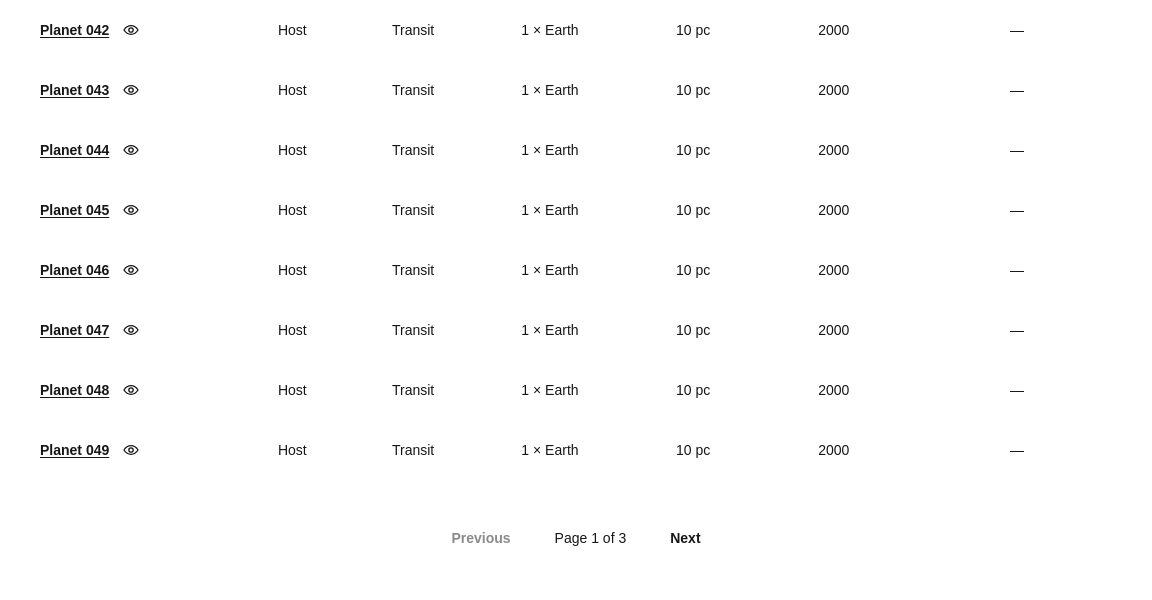
ExploreClient star type filter › returns to the first page when the star filter narrows the results under a later page
The image size is (1152, 600).
(page scrolled)
Click the button "Next" at coordinates (685, 538), box [650,520,721,556]
(page scrolled)
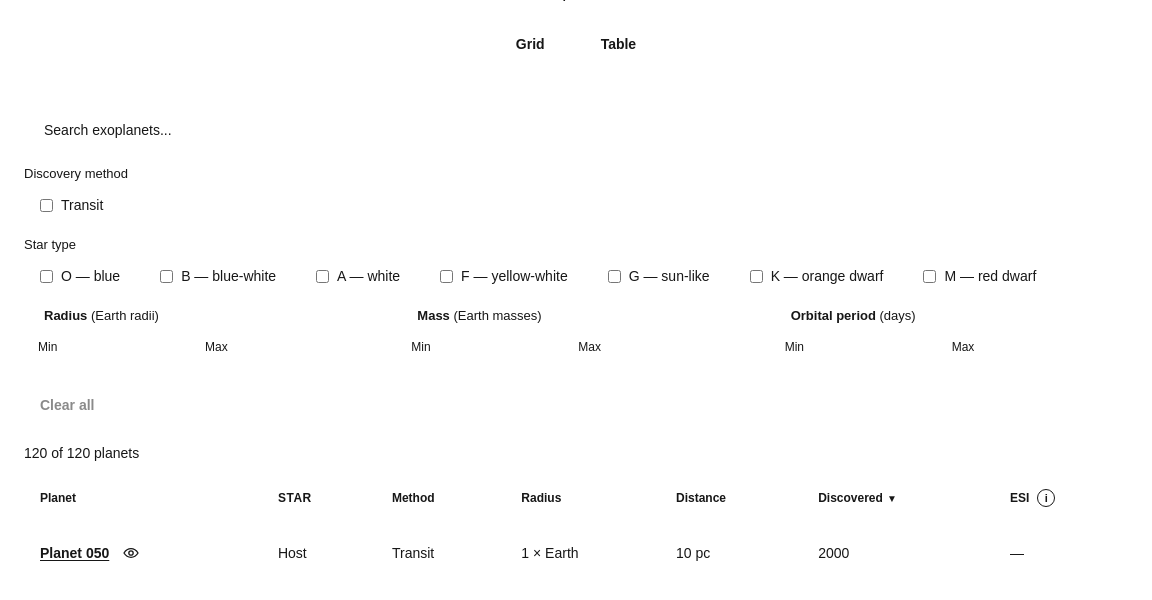
Click the checkbox labelled "G — sun-like" at coordinates (614, 276), box [608,270,621,282]
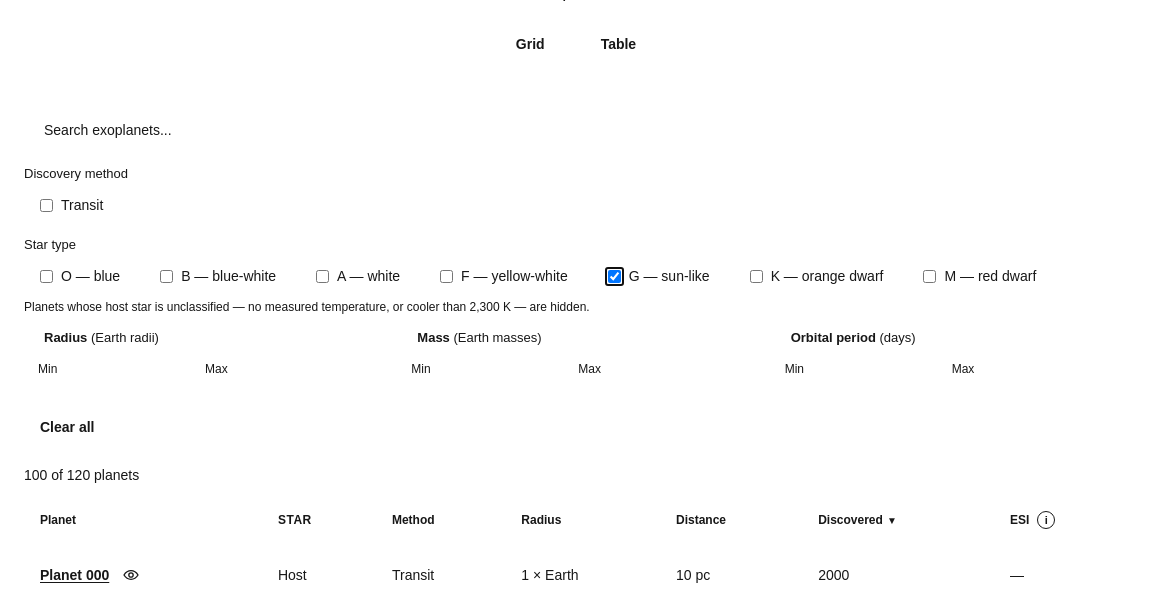
Expected: the text "100 of 120 planets" is shown, [24,467,139,483]
